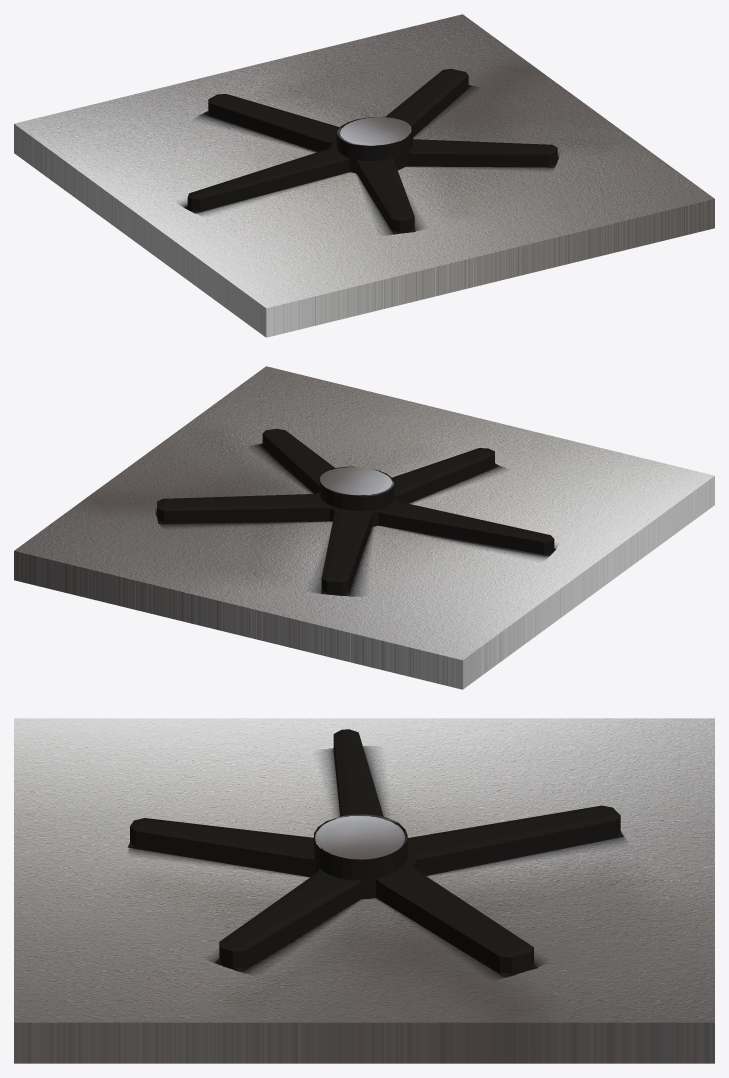
File: Ceiling.glb
The picture shows the model from 3 angles, top to bottom: view 1: azimuth 30°, elevation 25°; view 2: azimuth 150°, elevation 25°; view 3: azimuth 270°, elevation 25°; orthographic projection. The views are drawn at different scales.
Visible parts, largest first — view 1: Cube; view 2: Cube; view 3: Cube.
Boxes of the visible parts, <box> form: Cube: <box>14,14,714,337</box>; Cube: <box>14,366,714,689</box>; Cube: <box>14,718,714,1063</box>.
Bounding box in the file's own units: 41.17 × 5.08 × 40.08.
2 materials, 1 textured.
